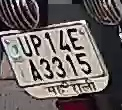1: (42, 32, 57, 54), (65, 54, 78, 77)
3: (51, 56, 67, 78), (40, 57, 54, 80)
4: (56, 30, 70, 54)
5: (76, 53, 92, 76)
A: (22, 58, 45, 81)
E: (67, 28, 84, 53)
P: (29, 32, 44, 58)
U: (18, 35, 33, 59)
